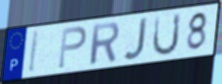8: (185, 11, 208, 53)
I: (27, 29, 41, 75)
J: (122, 16, 149, 62)
P: (56, 25, 88, 71)
R: (89, 21, 121, 67)
U: (150, 12, 182, 58)
